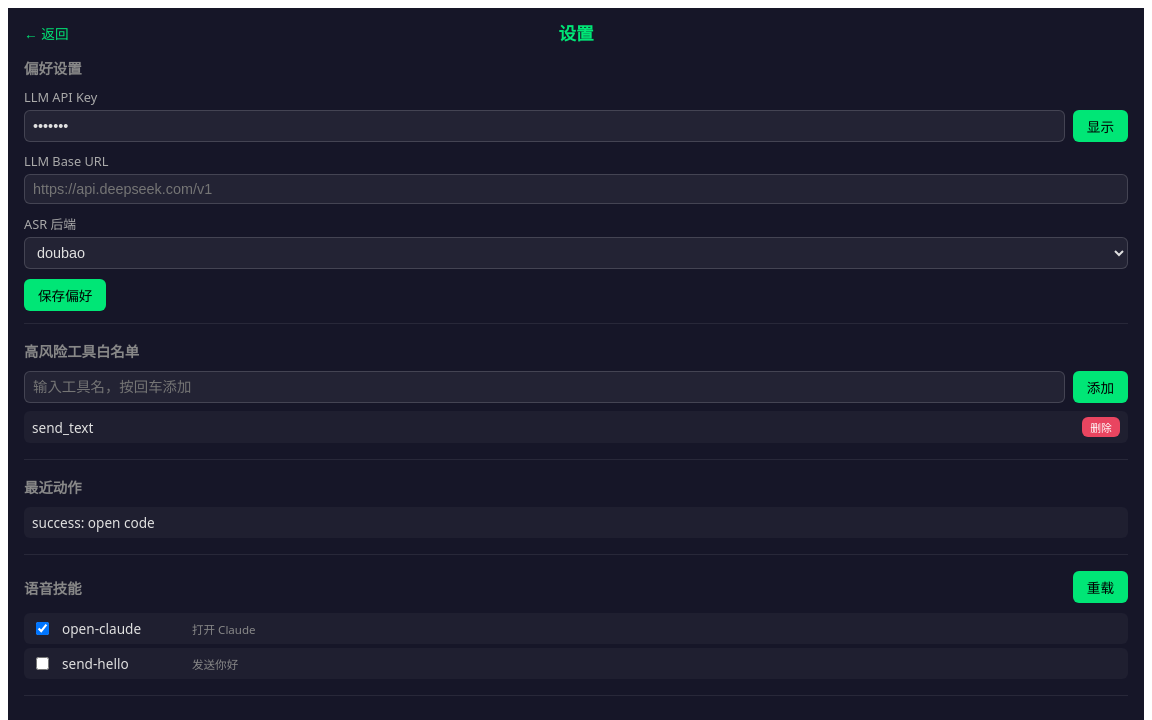
Settings › toggles API Key visibility
Expected: the heading "设置" is shown, [558,21,594,45]
Click the button "显示". click: coordinates (1100, 126)
box: [1073,110,1128,142]
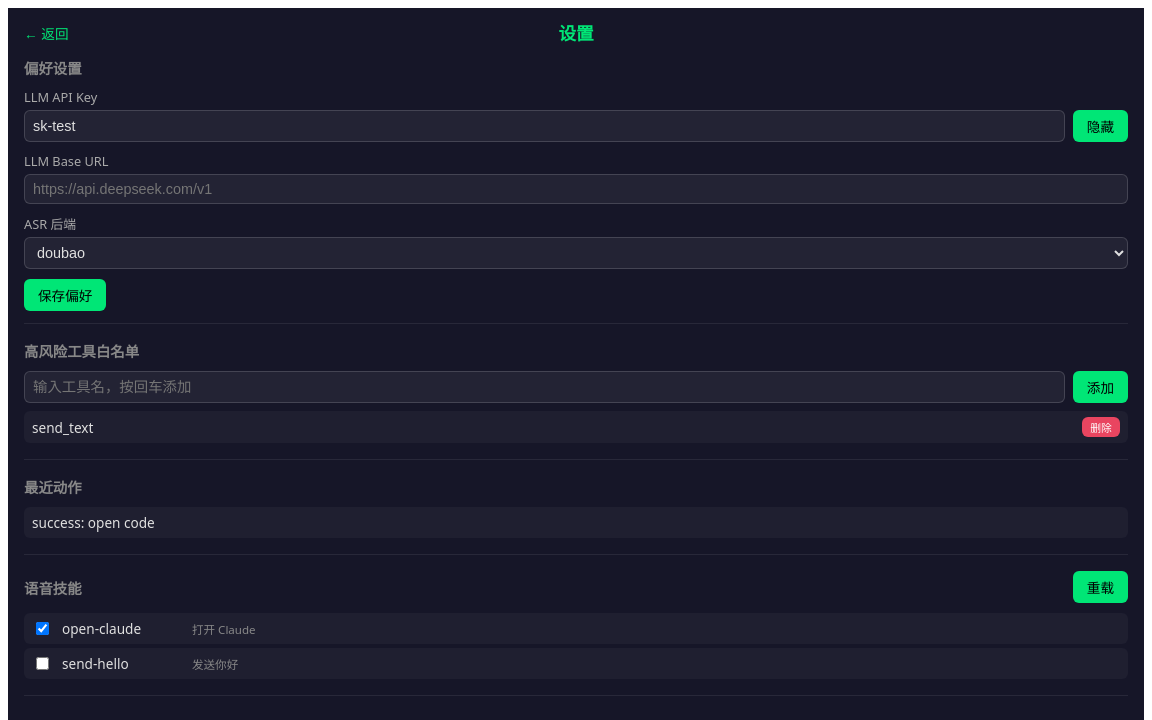
Now the field with placeholder "sk-..." shows its text, box [24,110,1065,142]
Click the button "隐藏". click: coordinates (1100, 126)
box: [1073,110,1128,142]
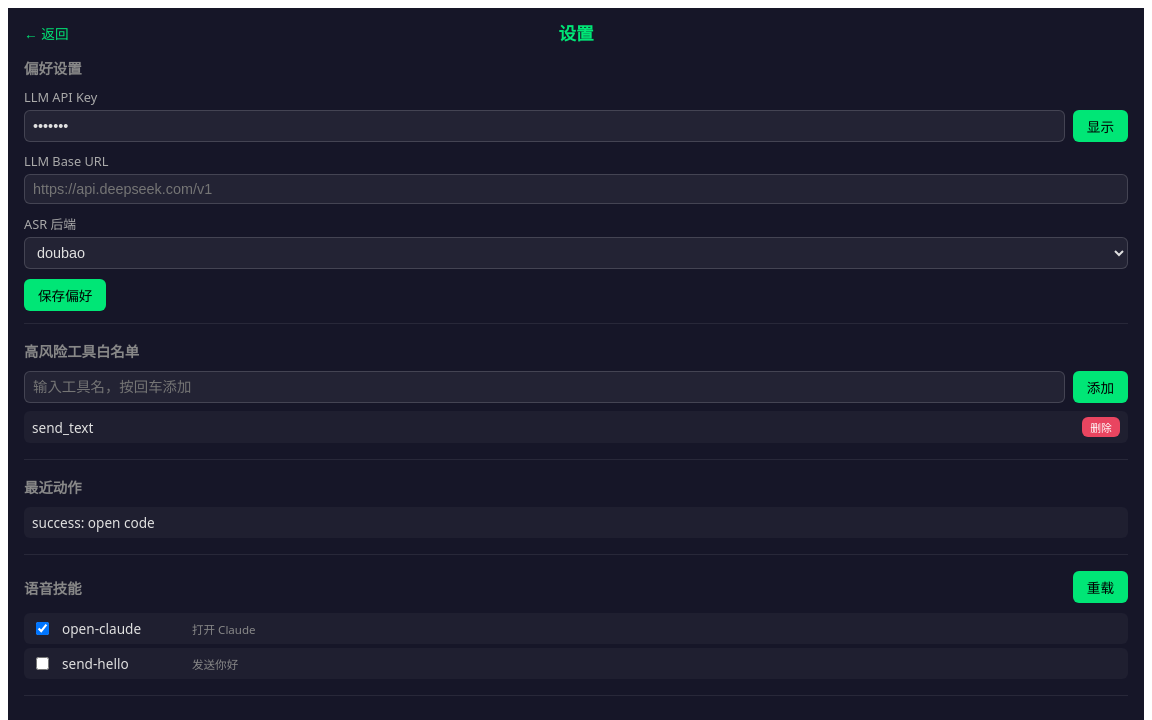
Now the password field with placeholder "sk-..." hides its text, box [24,110,1065,142]
